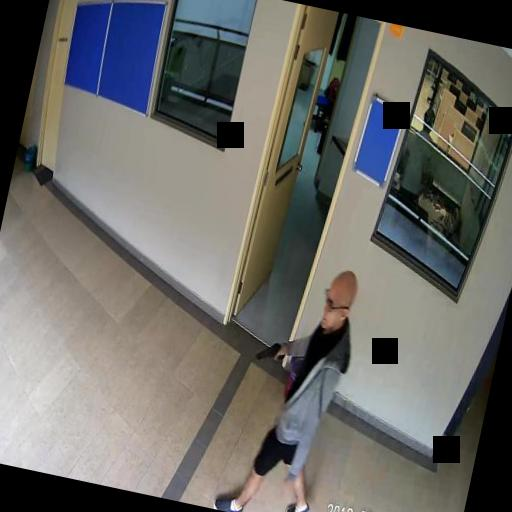Handgun: (254, 336, 286, 364)
